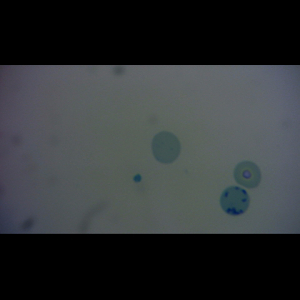aggregate reticulocyte: (219, 184, 250, 216)
erythrocyte: (232, 160, 262, 190)
punctate reticulocyte: (151, 131, 182, 164)
